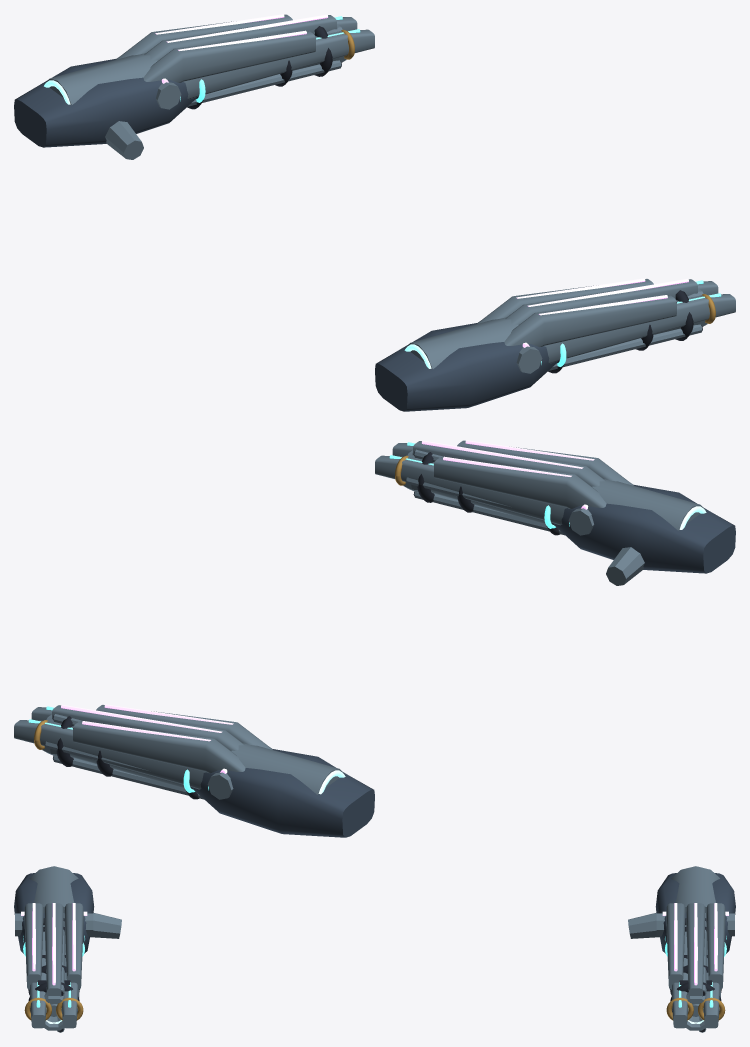
Rendered from mount.glb.
3 views of the same model, one above another, from view 1: azimuth 30°, elevation 25°; view 2: azimuth 150°, elevation 25°; view 3: azimuth 270°, elevation 25° (orthographic). The views are drawn at different scales.
Visible parts, largest first — view 1: m_heavy Fitting gunmetal, m_array Brushed fitting edges, m_rotary Brushed fitting edges, m_siege Brushed fitting edges, m_array m_array emitter, m_heavy Brushed fitting edges, m_rotary Machined graphite; view 2: m_heavy Fitting gunmetal, m_array Brushed fitting edges, m_rotary Brushed fitting edges, m_siege Brushed fitting edges, m_array m_array emitter, m_heavy Brushed fitting edges, m_rotary Machined graphite; view 3: m_array Brushed fitting edges, m_rotary Brushed fitting edges, m_heavy Fitting gunmetal, m_siege Brushed fitting edges, m_heavy Brushed fitting edges, m_array m_array emitter, m_siege Champagne gold edging, m_rotary Machined graphite, m_siege m_siege emitter.
Boxes of the visible parts, left/top/right/bottom form: m_heavy Fitting gunmetal: left=14, top=58, right=557, bottom=411; m_array Brushed fitting edges: left=116, top=14, right=697, bottom=373; m_rotary Brushed fitting edges: left=44, top=53, right=702, bottom=370; m_siege Brushed fitting edges: left=183, top=17, right=735, bottom=363; m_array m_array emitter: left=155, top=14, right=688, bottom=347; m_heavy Brushed fitting edges: left=105, top=24, right=707, bottom=334; m_rotary Machined graphite: left=275, top=26, right=702, bottom=350; m_heavy Fitting gunmetal: left=192, top=484, right=735, bottom=837; m_array Brushed fitting edges: left=52, top=440, right=633, bottom=799; m_rotary Brushed fitting edges: left=45, top=449, right=705, bottom=799; m_siege Brushed fitting edges: left=14, top=443, right=566, bottom=789; m_array m_array emitter: left=61, top=440, right=594, bottom=773; m_heavy Brushed fitting edges: left=42, top=450, right=644, bottom=788; m_rotary Machined graphite: left=45, top=451, right=474, bottom=776; m_array Brushed fitting edges: left=15, top=903, right=734, bottom=1003; m_rotary Brushed fitting edges: left=29, top=866, right=720, bottom=1032; m_heavy Fitting gunmetal: left=14, top=873, right=735, bottom=953; m_siege Brushed fitting edges: left=29, top=925, right=720, bottom=1028; m_heavy Brushed fitting edges: left=44, top=913, right=705, bottom=1030; m_array m_array emitter: left=21, top=903, right=728, bottom=985; m_siege Champagne gold edging: left=24, top=997, right=725, bottom=1020; m_rotary Machined graphite: left=28, top=965, right=721, bottom=1032; m_siege m_siege emitter: left=23, top=935, right=726, bottom=1007.
Bounding box in the file's own units: 17 × 3.72 × 36.
